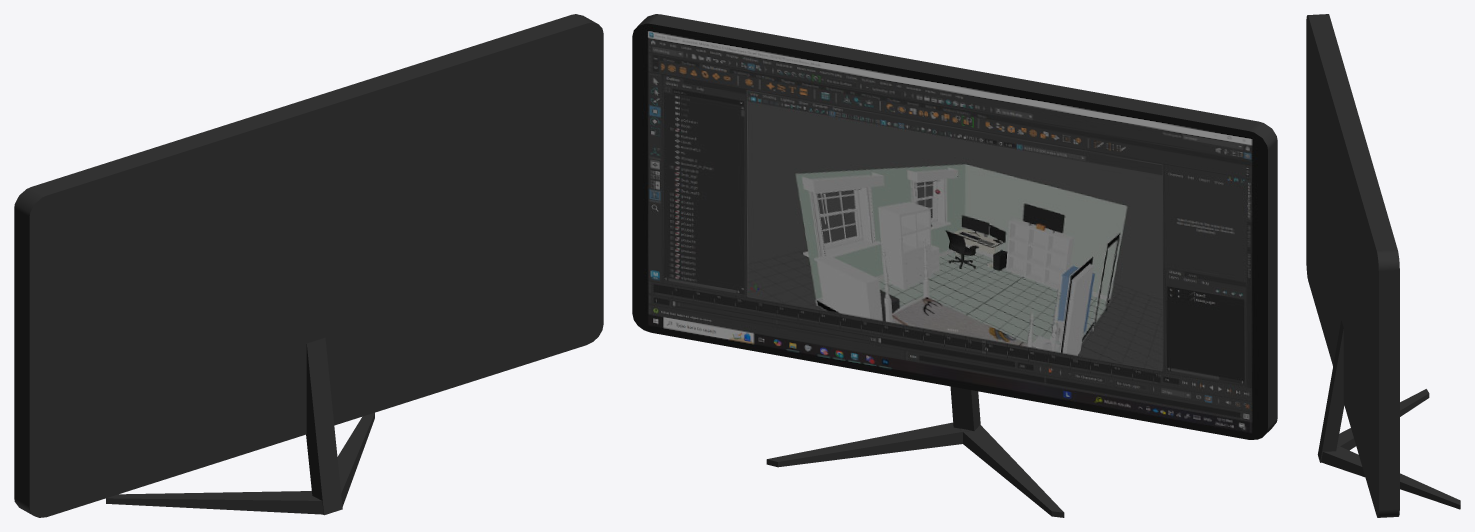
Rendered from Monitor1.fbx.
The picture shows the model from 3 angles, left to right: view 1: azimuth 30°, elevation 25°; view 2: azimuth 150°, elevation 25°; view 3: azimuth 270°, elevation 25°; orthographic projection. The views are drawn at different scales.
Visible parts, largest first — view 1: Monitor_4; view 2: Monitor_4; view 3: Monitor_4.
Boxes of the visible parts, box(x1,y1,x2,y2) form: Monitor_4: box(14, 14, 603, 517); Monitor_4: box(632, 14, 1277, 517); Monitor_4: box(1306, 14, 1460, 517).
Bounding box in the file's own units: 2.32 × 1.4 × 0.6039.
2 materials, 1 textured.
